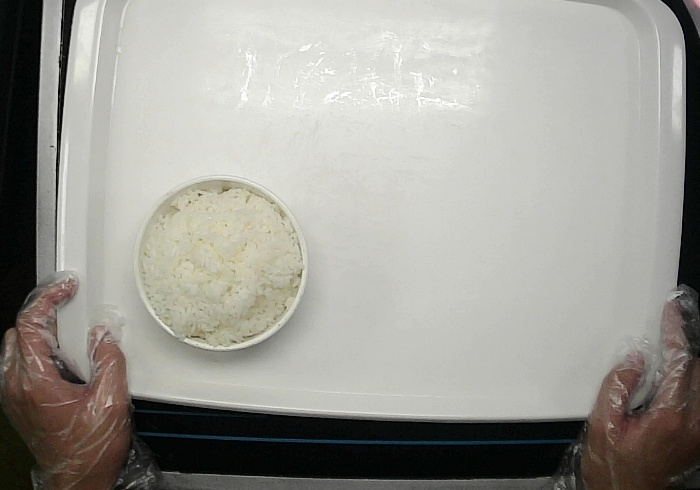HZYJPL-Fan_Wan: (130, 173, 309, 351)
